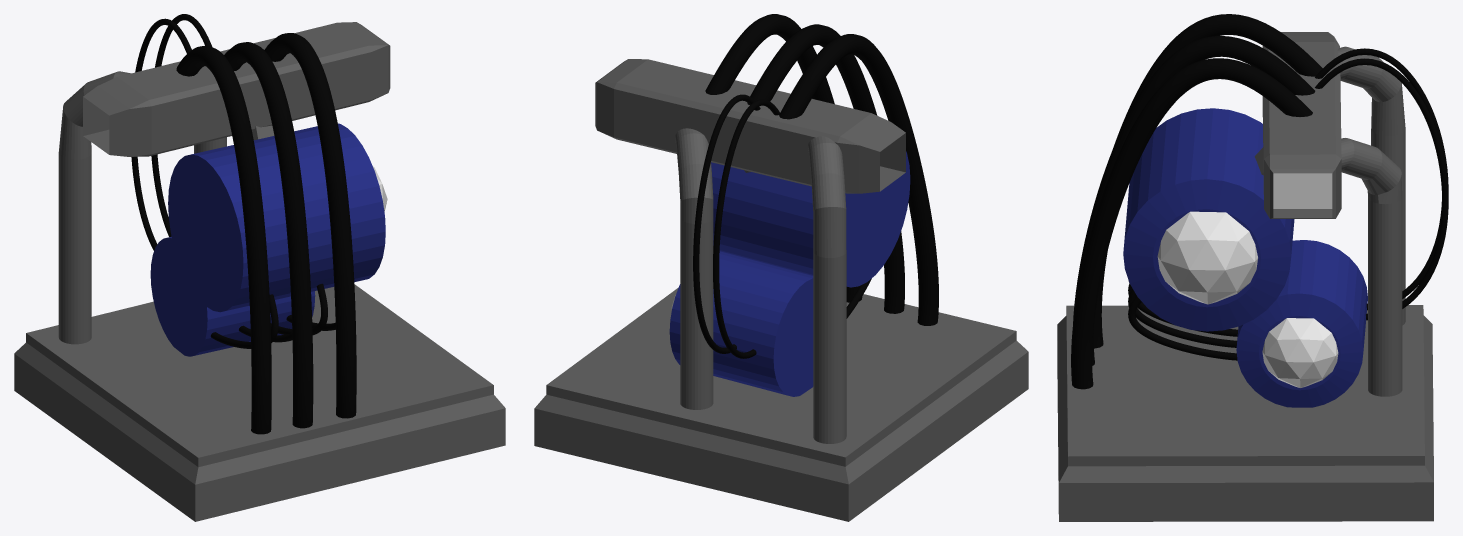
The model's file is PowerGenlevel9.fbx.
3 renders of one model, left to right at view 1: azimuth 30°, elevation 25°; view 2: azimuth 150°, elevation 25°; view 3: azimuth 270°, elevation 25°, orthographic. The views are drawn at different scales.
Parts seen in each view (by area): view 1: Cube, Cylinder.001, Cube.001, NurbsPath.002, NurbsPath, NurbsPath.001, Cylinder, NurbsPath.007, NurbsPath.008, NurbsPath.005; view 2: Cube, Cube.001, Cylinder.001, Cylinder, NurbsPath.002, NurbsPath.001, NurbsPath, NurbsPath.007, NurbsPath.008; view 3: Cube, Cylinder.001, Cylinder, Cube.001, NurbsPath, NurbsPath.001, NurbsPath.002, NurbsPath.008, NurbsPath.007, NurbsPath.006, NurbsPath.003.
Part boxes in pixels (x1,y1,x2,y2): Cube: (14,71,505,521); Cylinder.001: (168,123,387,312); Cube.001: (83,22,390,156); NurbsPath.002: (176,45,271,434); NurbsPath: (264,33,356,418); NurbsPath.001: (224,42,313,428); Cylinder: (150,236,315,356); NurbsPath.007: (131,18,191,250); NurbsPath.008: (151,14,212,236); NurbsPath.005: (210,294,278,348); Cube: (534,128,1028,521); Cube.001: (595,59,905,193); Cylinder.001: (711,151,910,287); Cylinder: (669,251,813,396); NurbsPath.002: (779,34,938,325); NurbsPath.001: (747,24,904,313); NurbsPath: (705,14,862,302); NurbsPath.007: (713,99,779,358); NurbsPath.008: (693,94,760,353); Cube: (1057,46,1433,521); Cylinder.001: (1123,108,1294,331); Cylinder: (1236,240,1367,407); Cube.001: (1262,32,1341,218); NurbsPath: (1071,58,1312,389); NurbsPath.001: (1073,36,1315,365); NurbsPath.002: (1093,14,1322,348); NurbsPath.008: (1315,58,1448,320); NurbsPath.007: (1315,48,1448,310); NurbsPath.006: (1128,296,1237,360); NurbsPath.003: (1128,289,1237,347).
Size of the model in its own units: 1.91 by 2.24 by 1.98.
